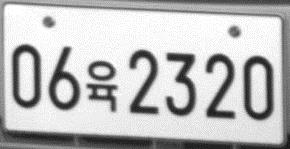0: (242, 54, 275, 121), (12, 42, 41, 108)
2: (205, 50, 236, 120), (128, 47, 159, 116)
3: (165, 51, 197, 117)
6: (48, 45, 81, 111)
육: (85, 59, 119, 113)
